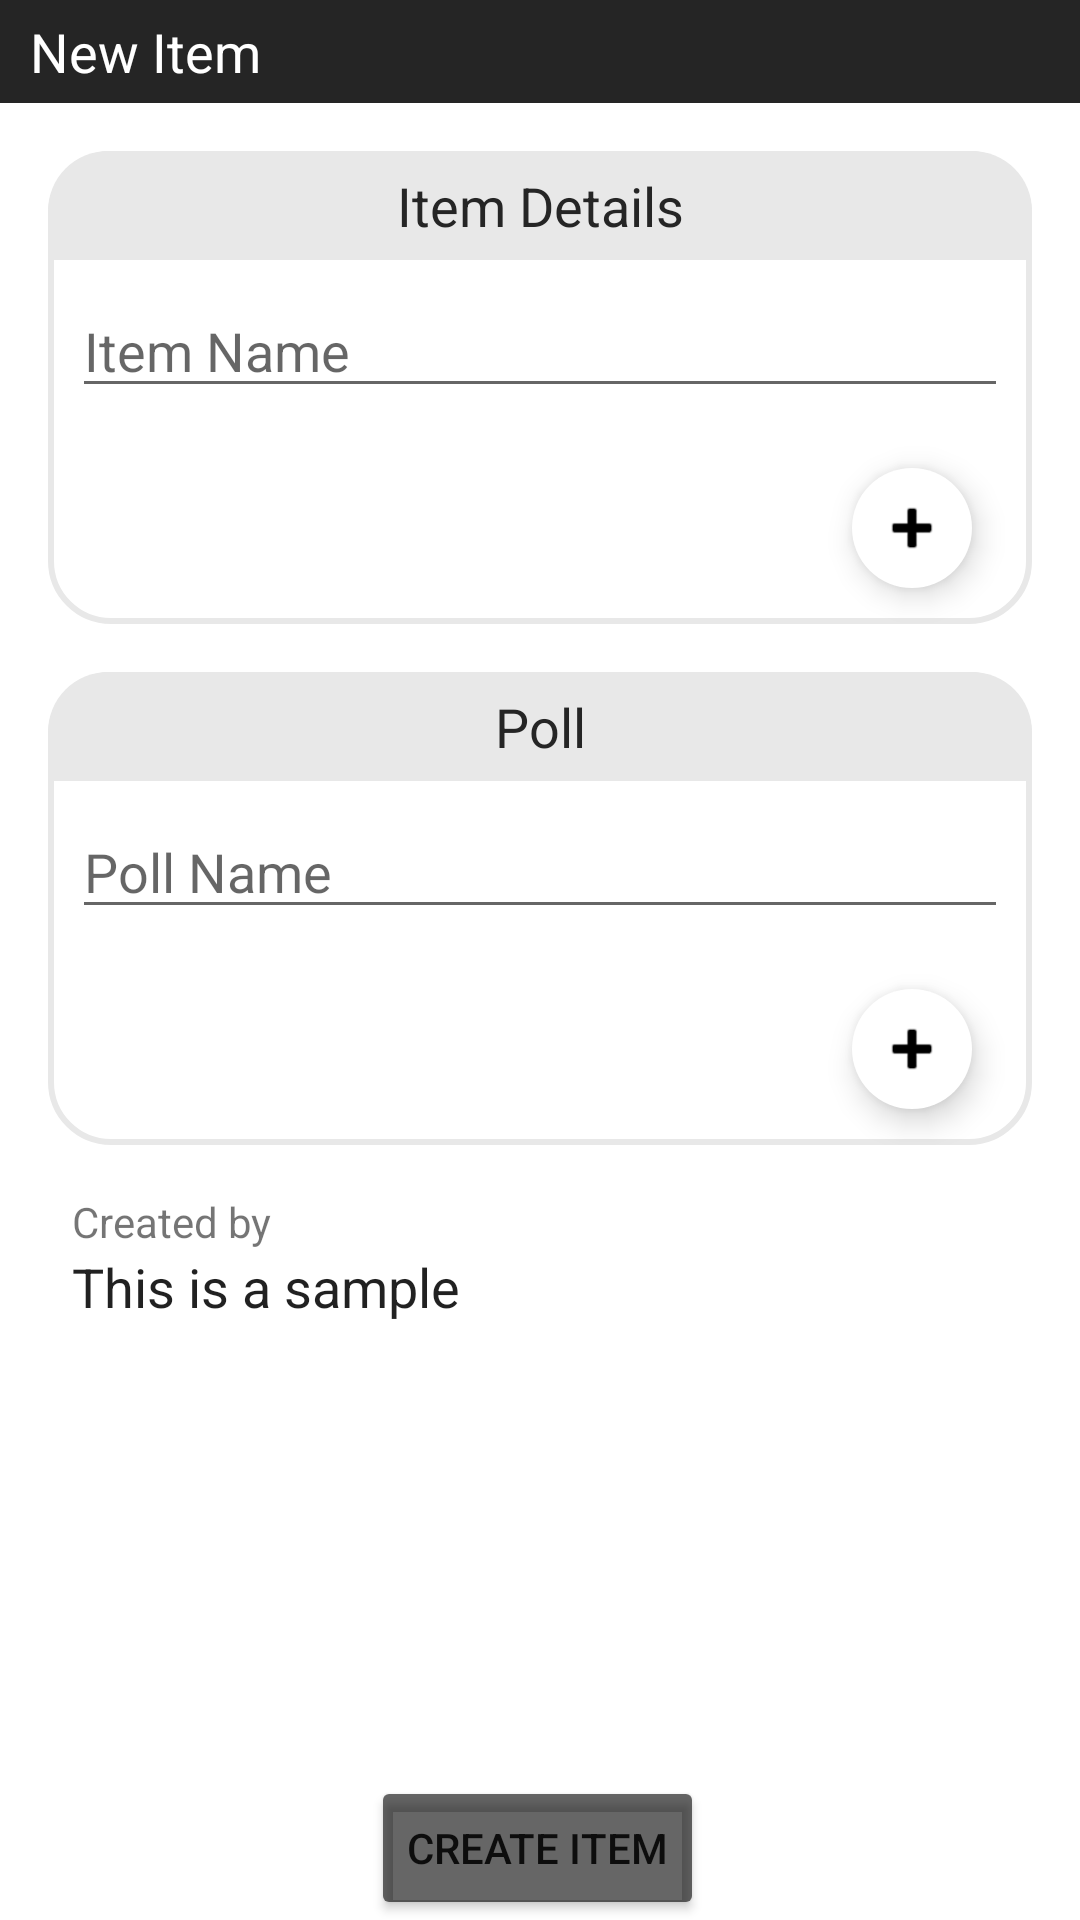

Where icons sit on this 1080 × 1920 app screen, as (x1, y1, x2, y2):
add: (874, 499, 974, 591), (858, 1029, 974, 1116)
